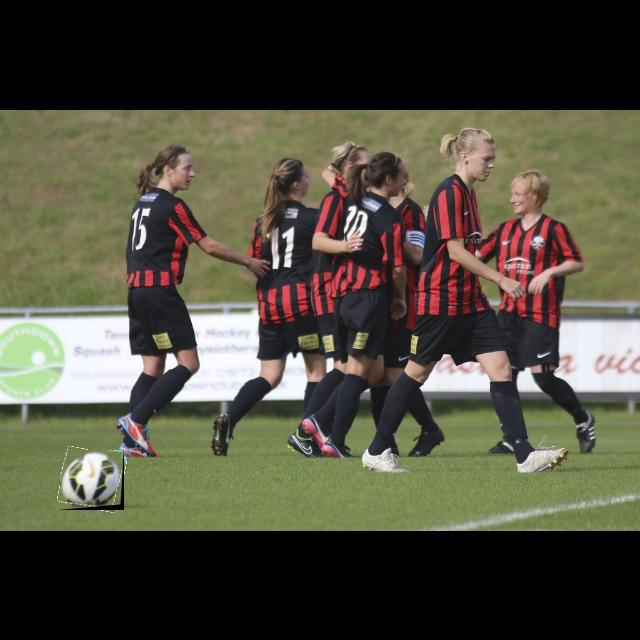Football: (60, 450, 124, 510)
